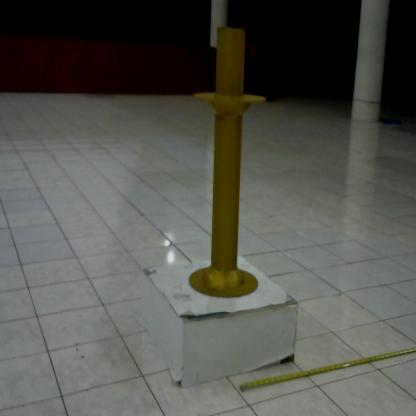pole: (187, 17, 270, 300)
